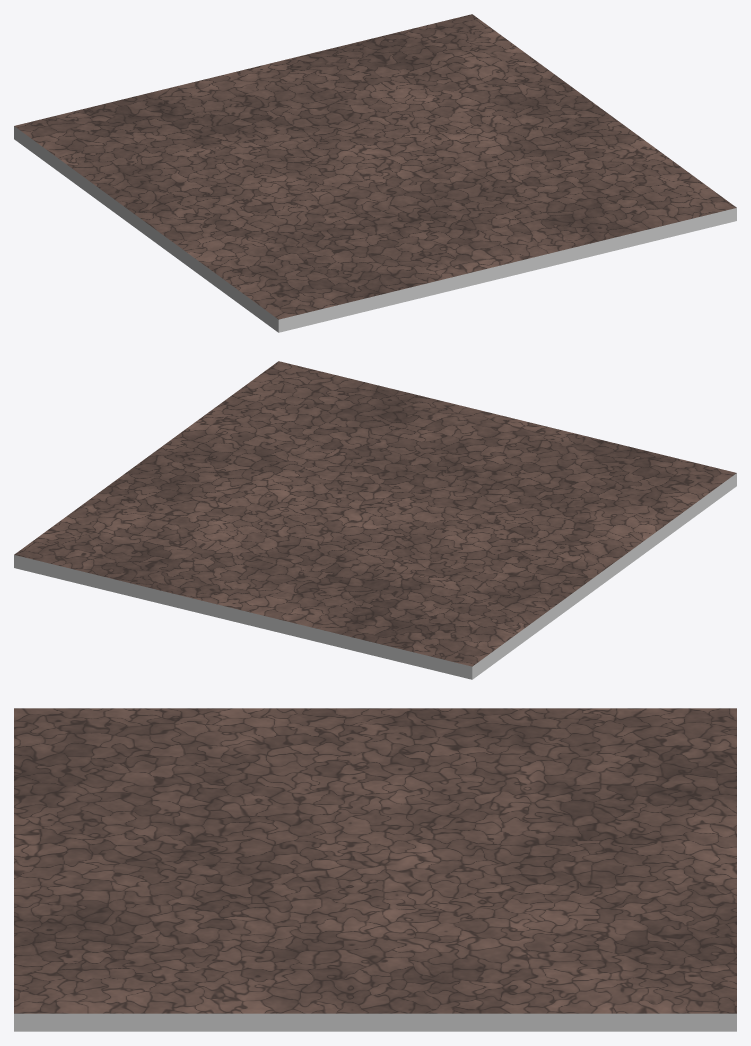
The model's file is F2_Clinker_Tile_8m.fbx.
The picture shows the model from 3 angles, top to bottom: view 1: azimuth 30°, elevation 25°; view 2: azimuth 150°, elevation 25°; view 3: azimuth 270°, elevation 25°; orthographic projection. The views are drawn at different scales.
Parts seen in each view (by area): view 1: F2_Clinker_Tile_8m; view 2: F2_Clinker_Tile_8m; view 3: F2_Clinker_Tile_8m.
Boxes of the visible parts, x1,y1,x2,y2 form: F2_Clinker_Tile_8m: (14,14,736,332); F2_Clinker_Tile_8m: (14,361,736,679); F2_Clinker_Tile_8m: (14,708,736,1031).
Size of the model in its own units: 800 by 29.01 by 800.
Materials: 2 (1 with a texture image).
